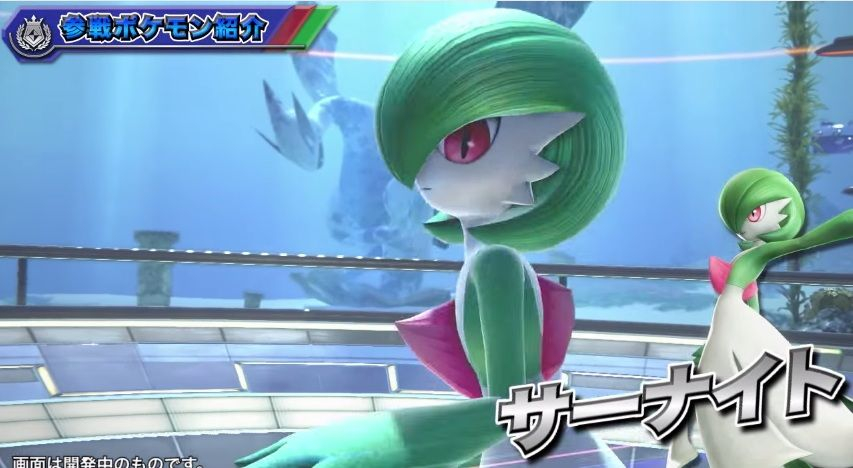gardevoir: (269, 15, 617, 468), (673, 178, 853, 460)
